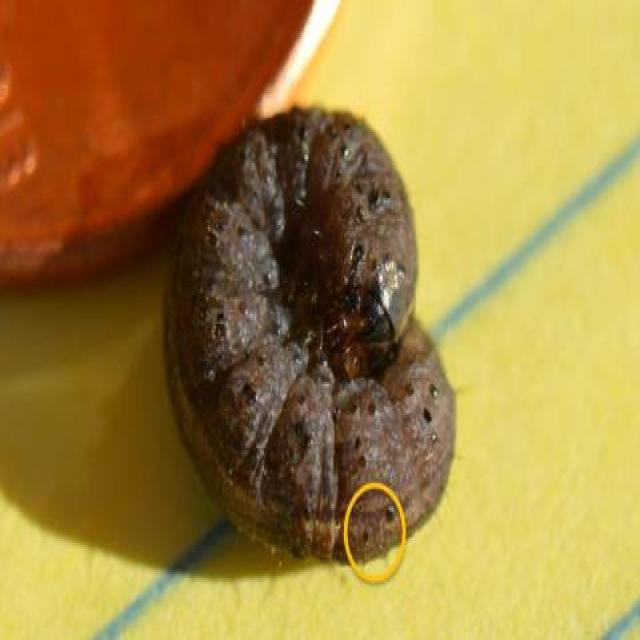Cutworm: (163, 96, 457, 560)
